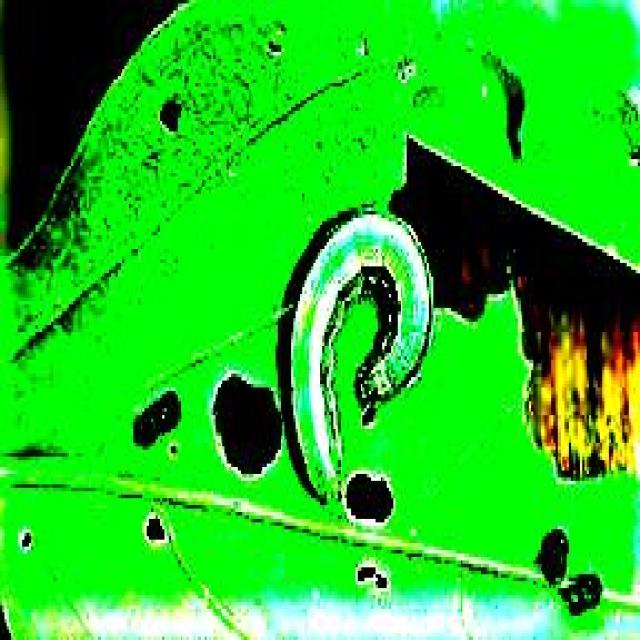Armyworm: (274, 159, 441, 513)
Armyworm_damage: (210, 337, 288, 499), (345, 455, 397, 554), (146, 523, 166, 546)
